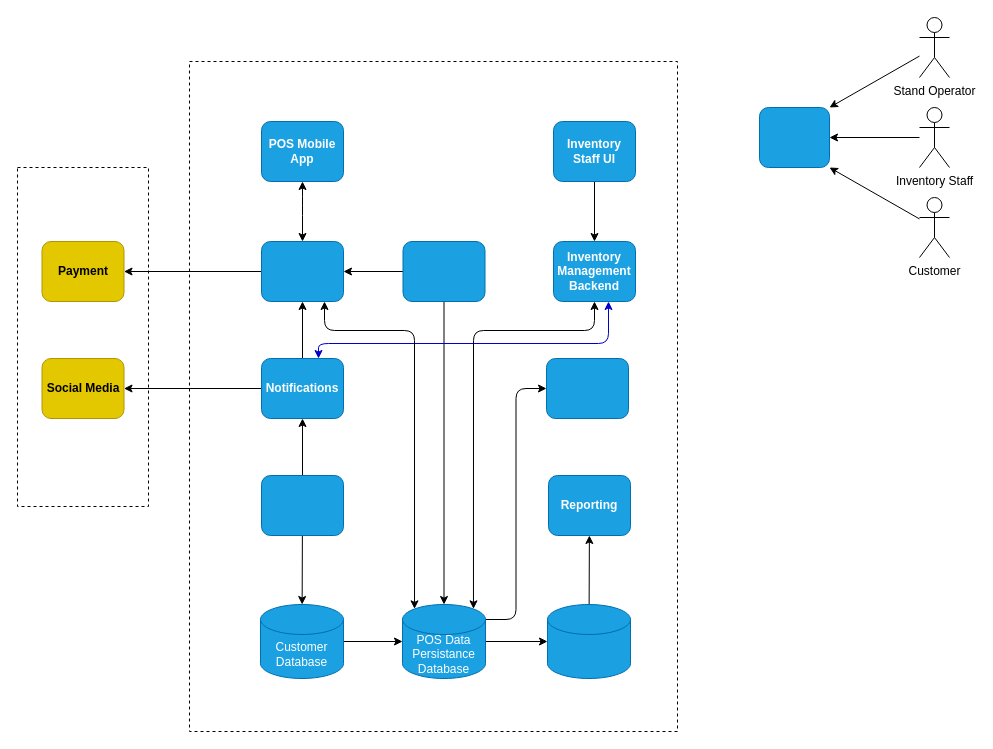
Image size: 993x749. Some labels were removed from this diagram. Each missing label, with the centre of its shape:
"Discounts" belongs at pixel 443 271.
"Export Data" belongs at pixel 587 388.
"POS" belongs at pixel 794 137.
"POS Backend" belongs at pixel 302 271.
"Reporting Database" belongs at pixel 588 641.
"Social Media Integration" belongs at pixel 302 505.
